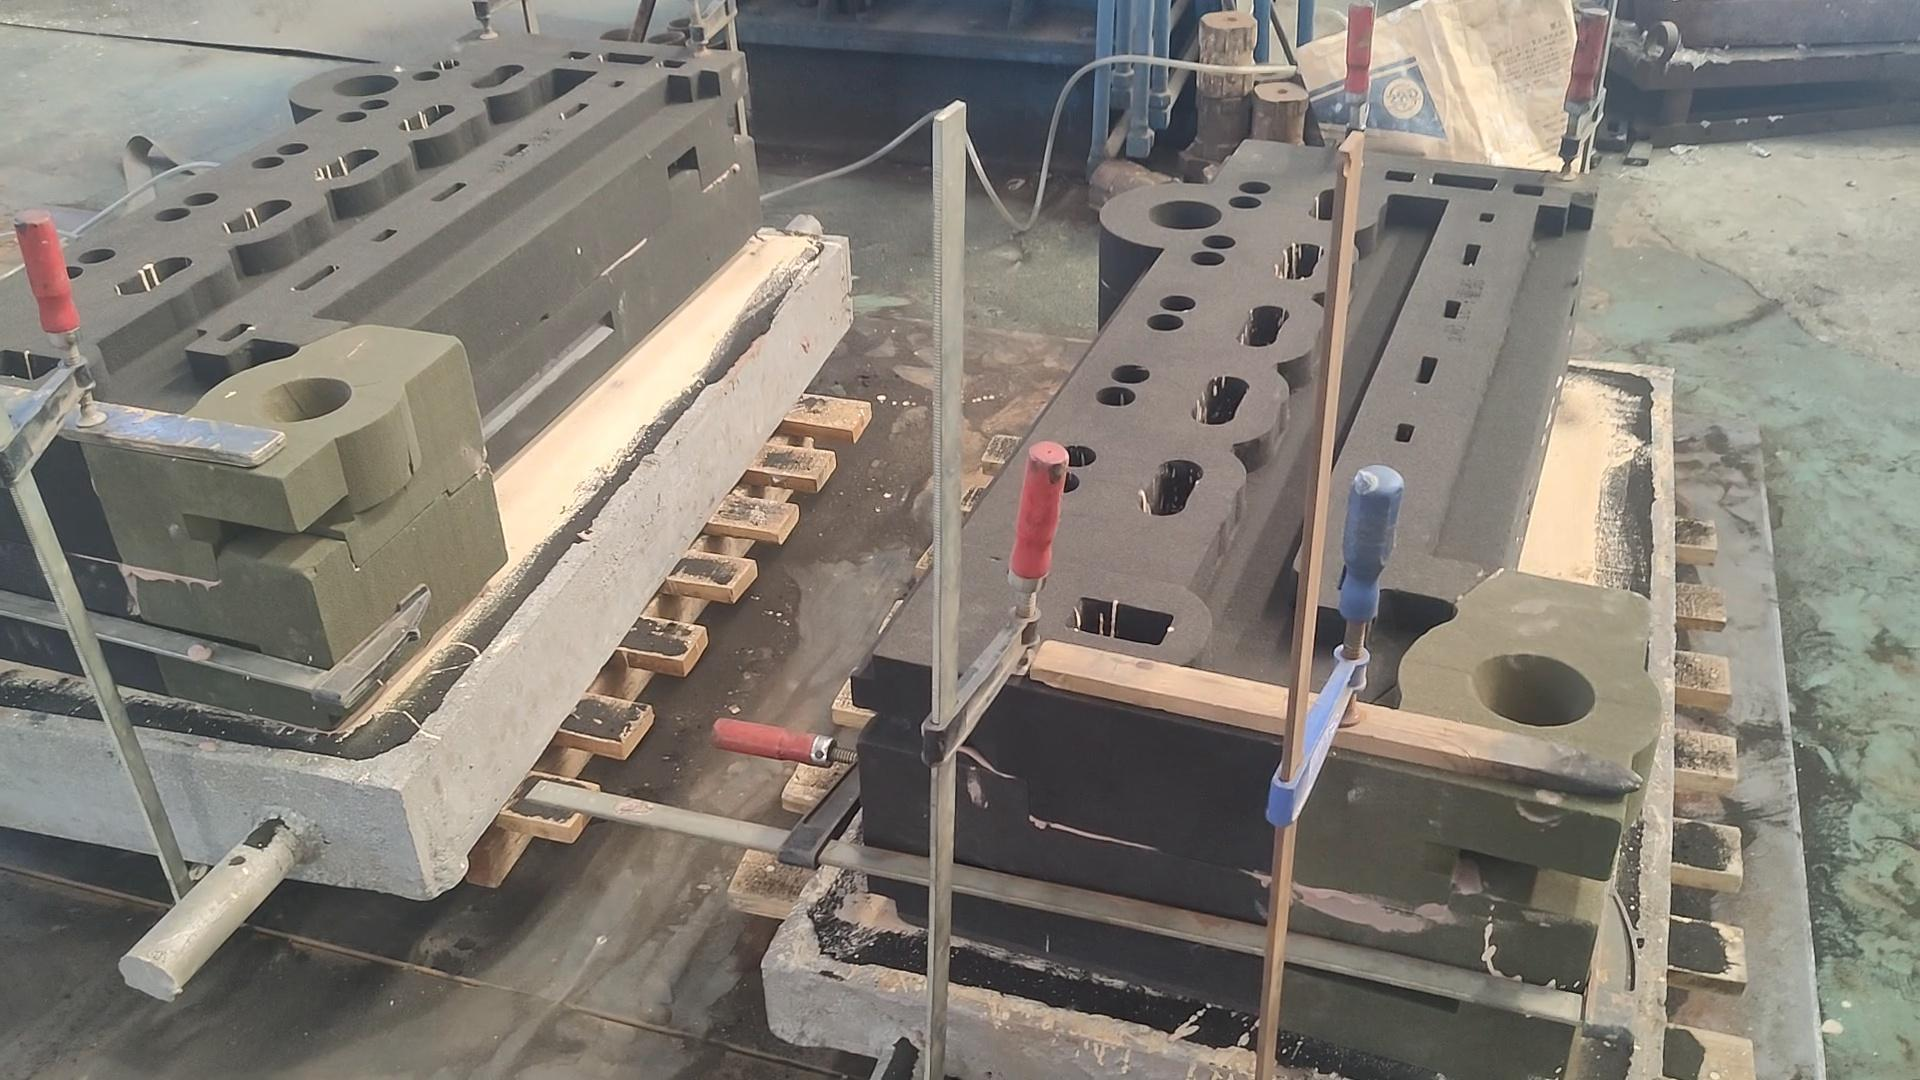pouring hole: (1474, 653, 1596, 727), (251, 376, 353, 422), (1149, 199, 1222, 229), (334, 74, 400, 96), (599, 28, 640, 44), (669, 16, 702, 30), (646, 32, 684, 44), (690, 37, 728, 47)
